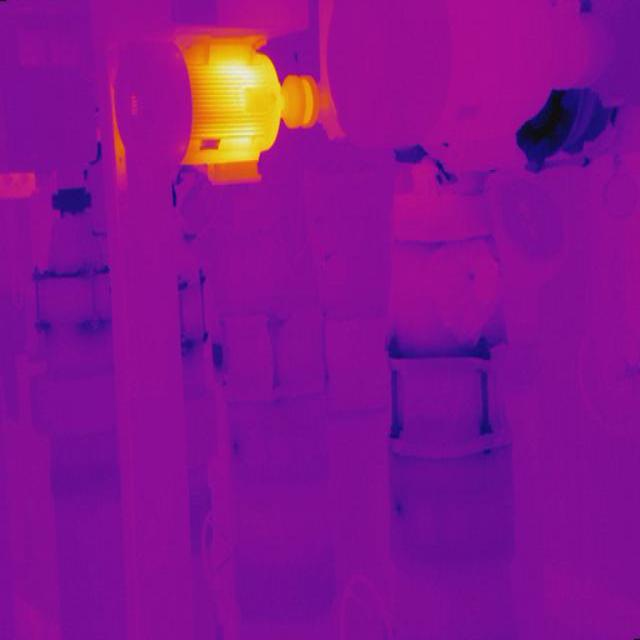leakage: (526, 91, 608, 157), (391, 144, 453, 184)
